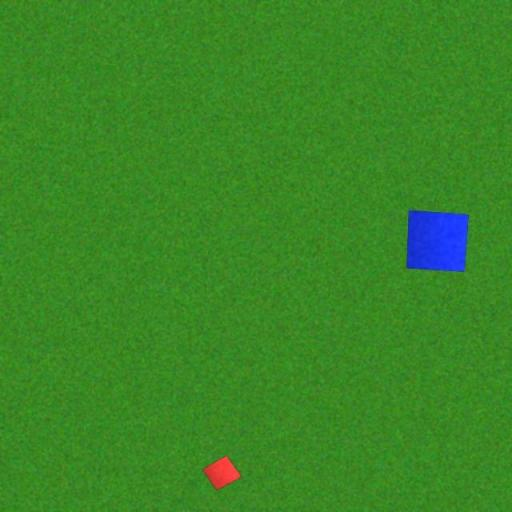BLUE_SQUARE: (406, 210, 469, 272)
RED_SQUARE: (202, 454, 242, 492)
